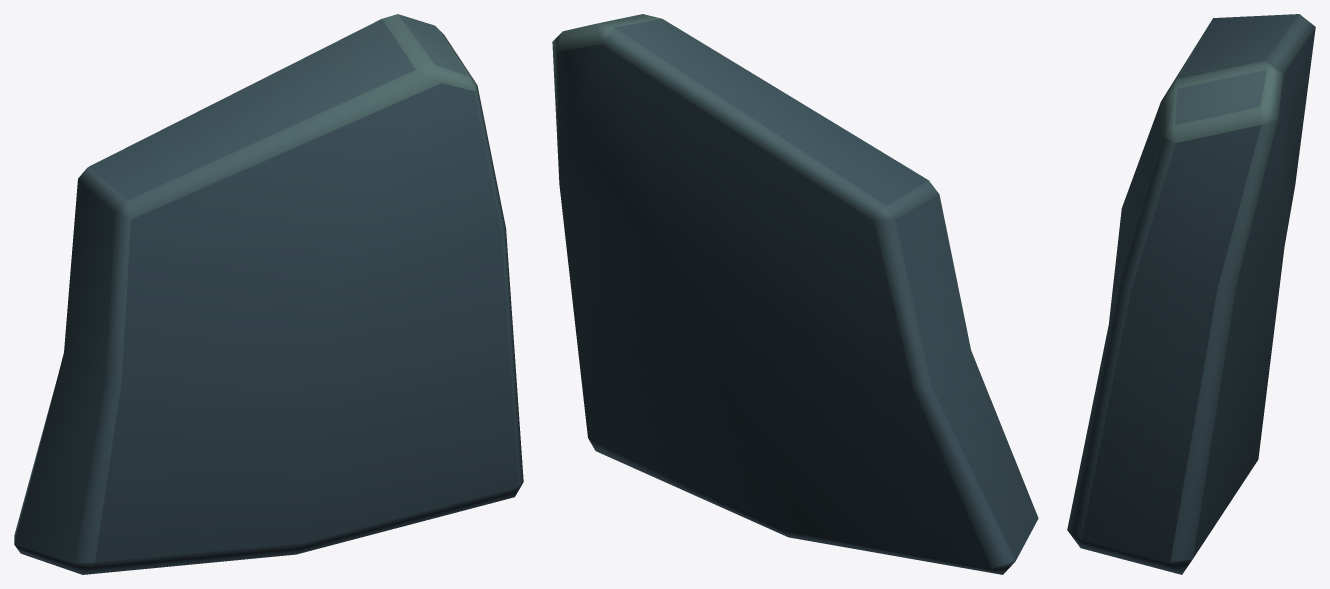
File: rock_large_07.fbx
3 views of the same model, side by side, from view 1: azimuth 30°, elevation 25°; view 2: azimuth 150°, elevation 25°; view 3: azimuth 270°, elevation 25° (orthographic). The views are drawn at different scales.
Visible parts, largest first — view 1: rock_large_07; view 2: rock_large_07; view 3: rock_large_07.
Part boxes in pixels (x1,y1,x2,y2): rock_large_07: [14, 14, 523, 574]; rock_large_07: [552, 14, 1038, 574]; rock_large_07: [1067, 14, 1315, 574].
Bounding box in the file's own units: 778 × 757 × 344.
